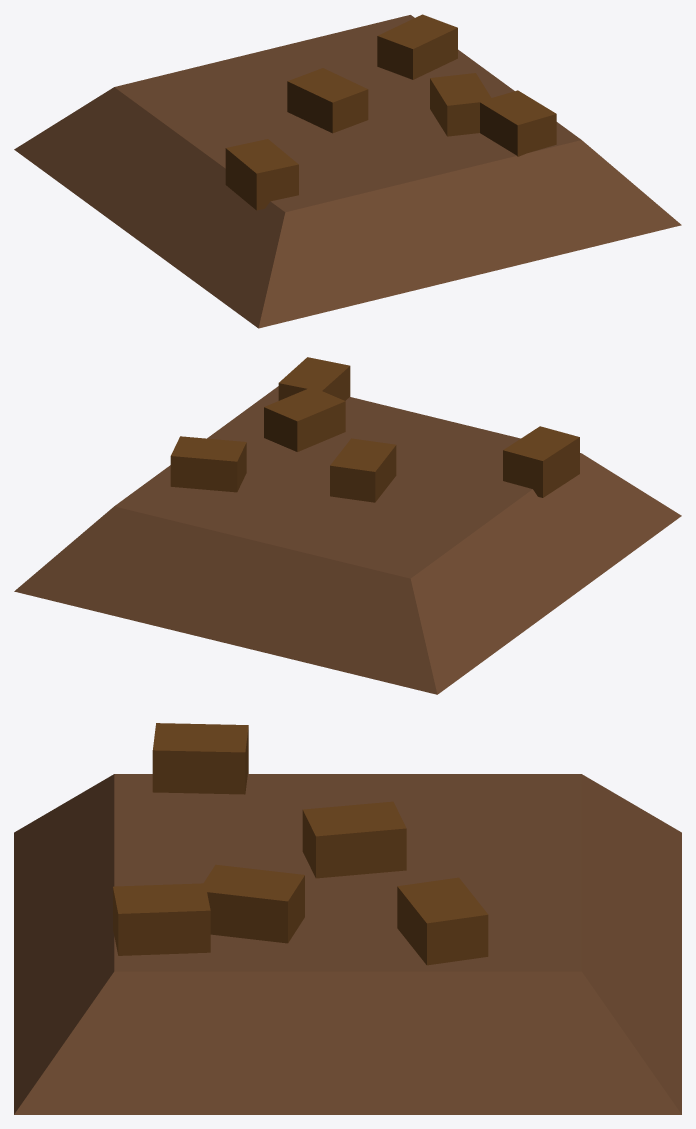
Rendered from sunflower_0.obj.
3 views of the same model, one above another, from view 1: azimuth 30°, elevation 25°; view 2: azimuth 150°, elevation 25°; view 3: azimuth 270°, elevation 25° (orthographic). The views are drawn at different scales.
Parts seen in each view (by area): view 1: plant; view 2: plant; view 3: plant.
Part boxes in pixels (x1,y1,x2,y2): plant: (14,14,681,328); plant: (14,357,681,694); plant: (14,723,681,1114).
Bounding box in the file's own units: 0.36 × 0.085 × 0.36.
